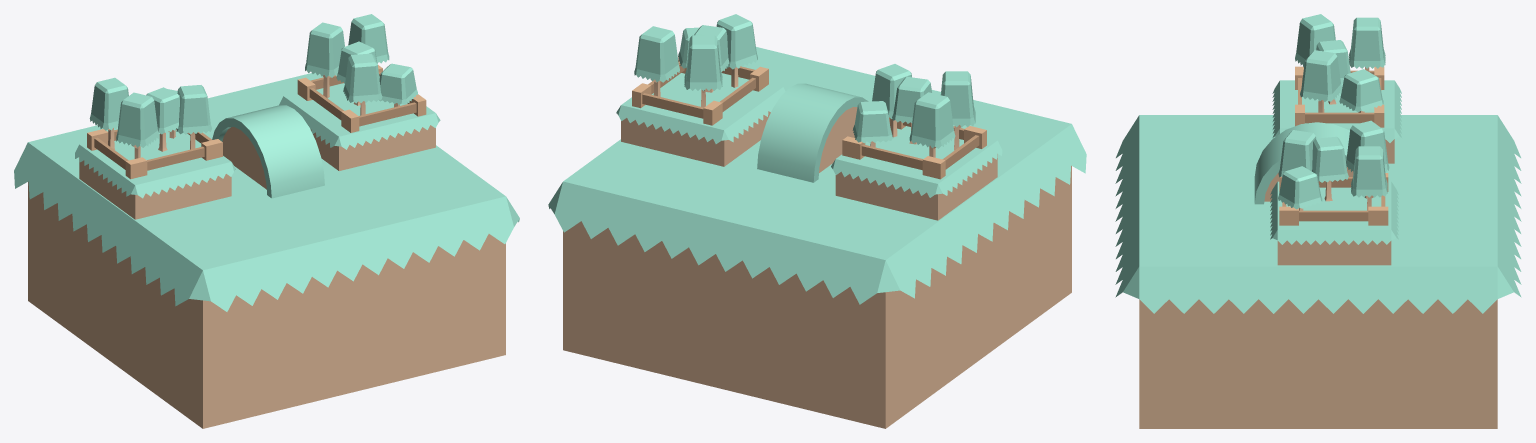
Rendered from FloatingIsland4.fbx.
3 renders of one model, left to right at view 1: azimuth 30°, elevation 25°; view 2: azimuth 150°, elevation 25°; view 3: azimuth 270°, elevation 25°, orthographic. The views are drawn at different scales.
Visible parts, largest first — view 1: Island3.001; view 2: Island3.001; view 3: Island3.001.
Boxes of the visible parts, <box> form: Island3.001: <box>14,14,519,428</box>; Island3.001: <box>548,14,1086,428</box>; Island3.001: <box>1115,14,1521,428</box>.
Size of the model in its own units: 735 by 535 by 735.
